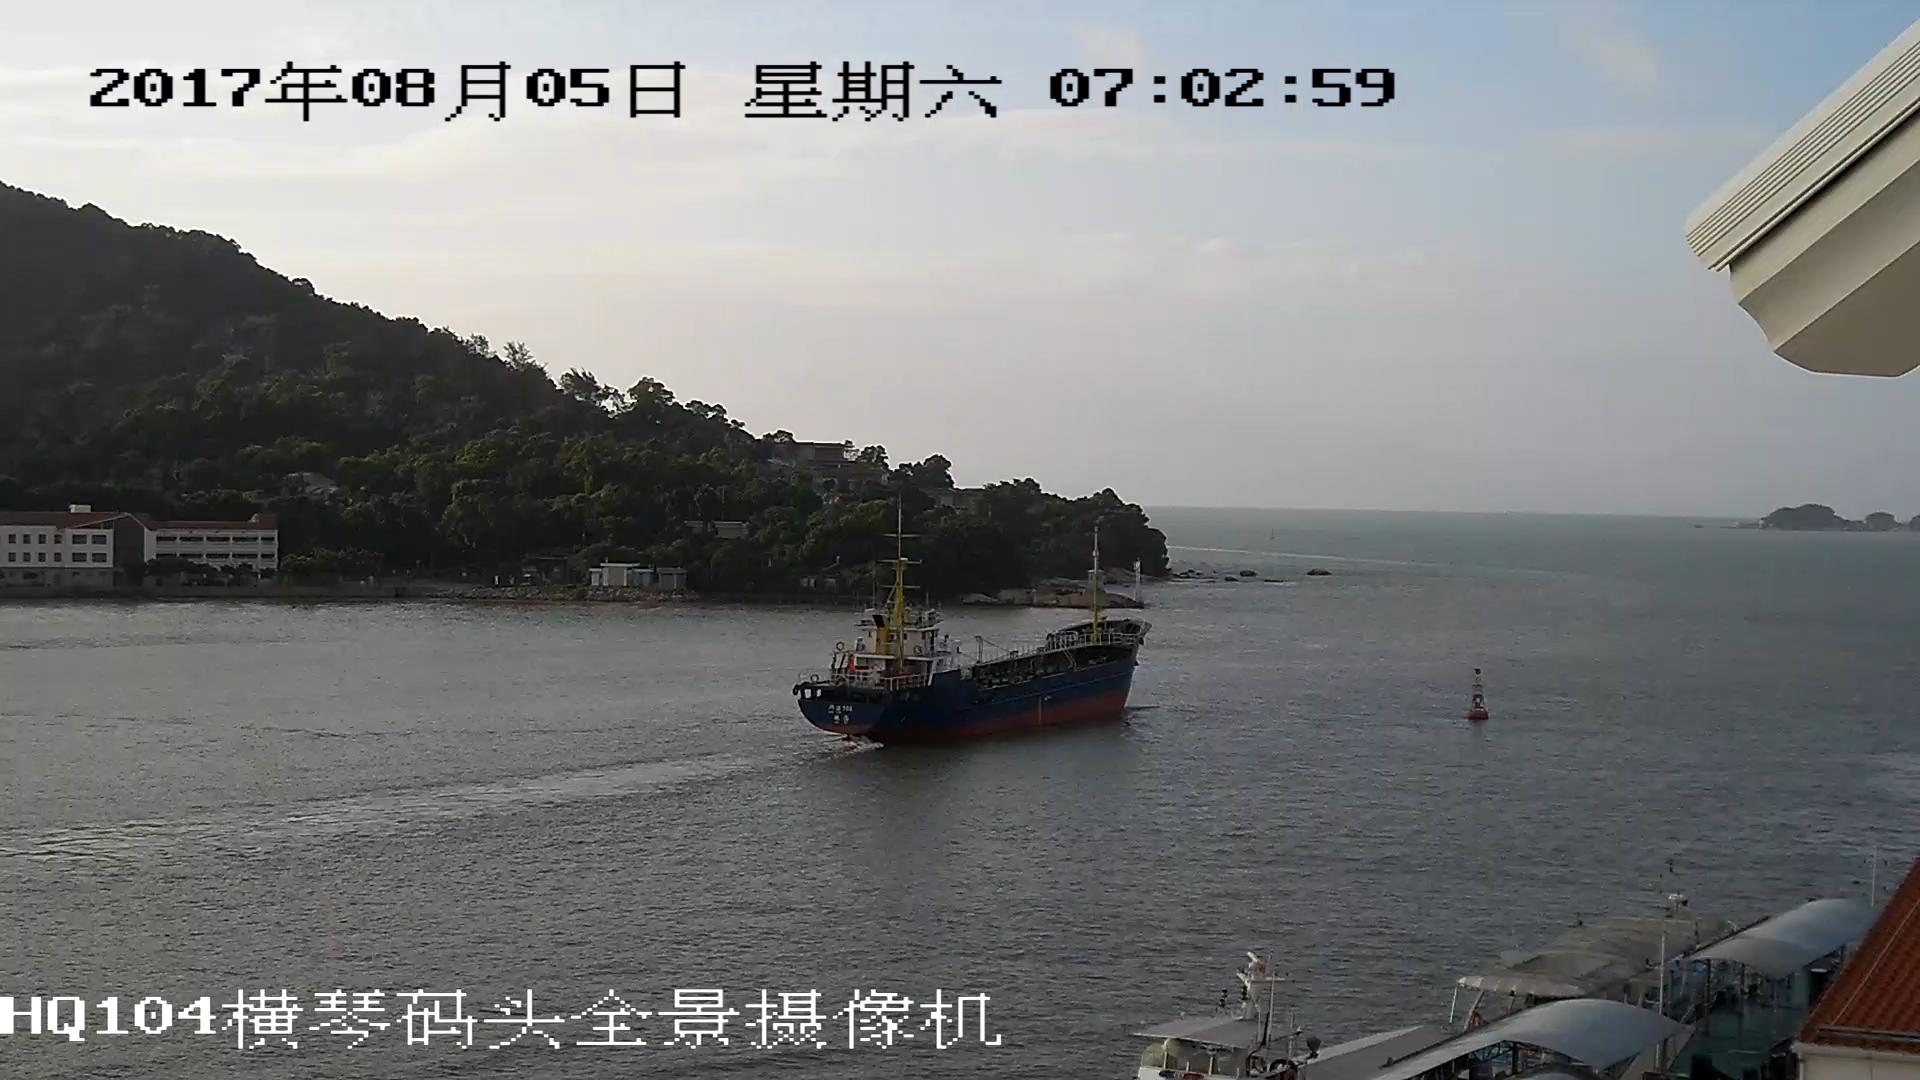general cargo ship: (791, 536, 1154, 745)
